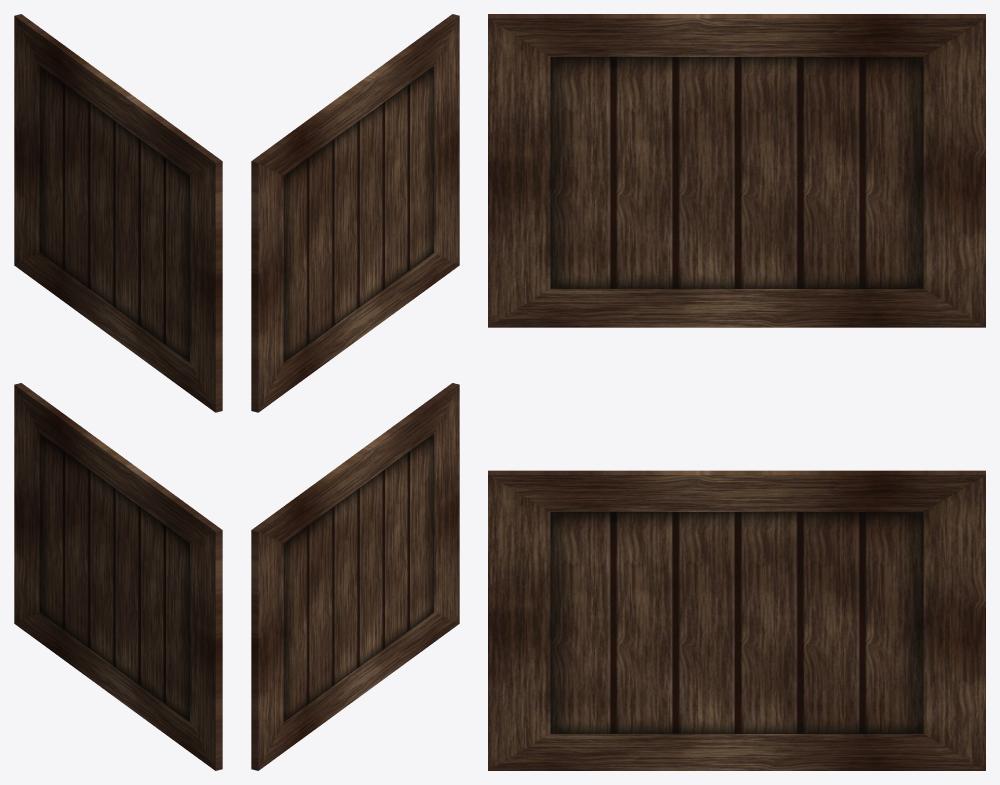
The model's file is PuertasArmario.obj.
3 views of the same model, side by side, from view 1: azimuth 30°, elevation 25°; view 2: azimuth 150°, elevation 25°; view 3: azimuth 270°, elevation 25° (orthographic). The views are drawn at different scales.
Parts seen in each view (by area): view 1: pasted__pasted__pasted__pasted__pasted__pCube1 pasted__pasted__p, pasted__pasted__pasted__pasted__pCube1 pasted__pasted__pasted__g; view 2: pasted__pasted__pasted__pasted__pasted__pCube1 pasted__pasted__p, pasted__pasted__pasted__pasted__pCube1 pasted__pasted__pasted__g; view 3: pasted__pasted__pasted__pasted__pasted__pCube1 pasted__pasted__p, pasted__pasted__pasted__pasted__pCube1 pasted__pasted__pasted__g.
Boxes of the visible parts, left/top/right/bottom form: pasted__pasted__pasted__pasted__pasted__pCube1 pasted__pasted__p: left=14, top=14, right=222, bottom=412; pasted__pasted__pasted__pasted__pCube1 pasted__pasted__pasted__g: left=14, top=383, right=222, bottom=770; pasted__pasted__pasted__pasted__pasted__pCube1 pasted__pasted__p: left=251, top=14, right=459, bottom=412; pasted__pasted__pasted__pasted__pCube1 pasted__pasted__pasted__g: left=251, top=383, right=459, bottom=770; pasted__pasted__pasted__pasted__pasted__pCube1 pasted__pasted__p: left=488, top=14, right=985, bottom=327; pasted__pasted__pasted__pasted__pCube1 pasted__pasted__pasted__g: left=488, top=470, right=985, bottom=770.
Bounding box in the file's own units: 0.1146 × 9.41 × 5.64.
